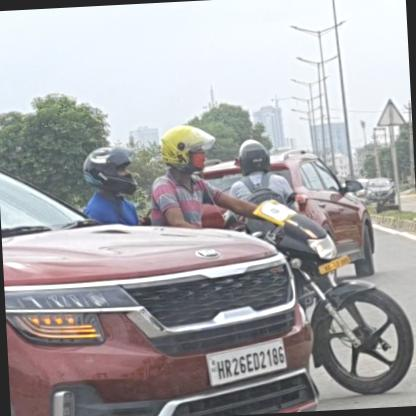car: (0, 118, 325, 415), (206, 145, 378, 282), (364, 176, 396, 206)
motorcycle: (78, 119, 415, 414)
